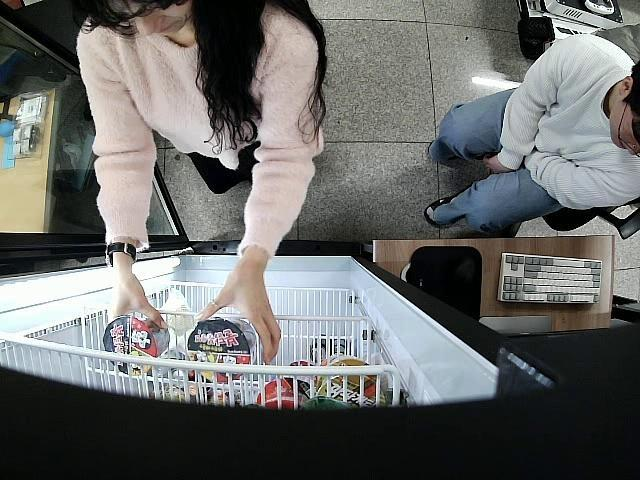08_buldak_S: (186, 315, 262, 384), (100, 314, 171, 382)
